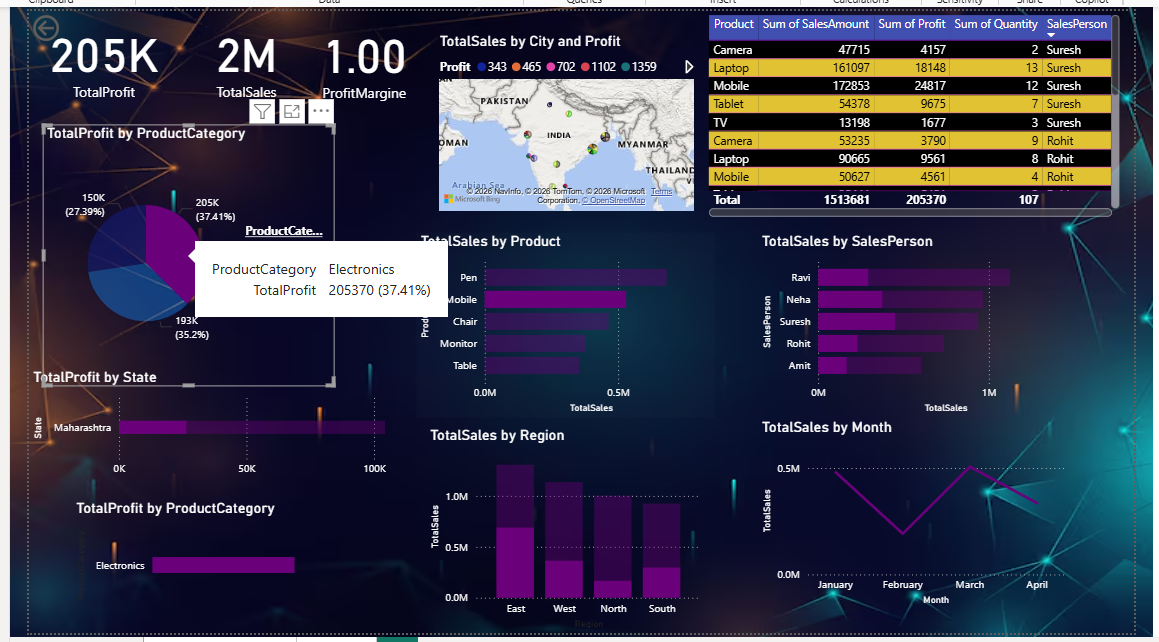

Layout of this report page (visuals, bound fields, positions):
{"tool":"powerbi","page":{"name":"Duplicate of Page 1","canvas":[1280,720],"ordinal":0},"visuals":[{"type":"card","fields":{"Values":["SalesData.TotalProfit"]},"box":[0,0,174.3,110],"z":0},{"type":"card","fields":{"Values":["SalesData.TotalSales"]},"box":[184.3,7.1,134.3,97.1],"z":1000},{"type":"card","fields":{"Values":["SalesData.ProfitMargine"]},"box":[315.7,0,144.3,112.9],"z":2000},{"type":"columnChart","fields":{"Category":["SalesData.Region"],"Y":["SalesData.TotalSales"]},"box":[460,481.4,324.3,238.6],"z":3000},{"type":"barChart","fields":{"Category":["SalesData.Product"],"Y":["SalesData.TotalSales"]},"box":[448.6,257.1,345.7,214.3],"z":4000},{"type":"lineChart","fields":{"Category":["SalesData.OrderDate.Variation.Date Hierarchy.Month"],"Y":["SalesData.TotalSales"]},"box":[844.3,471.4,360,221.4],"z":5000},{"type":"pieChart","fields":{"Y":["SalesData.TotalProfit"],"Category":["SalesData.ProductCategory"]},"box":[15.7,131.4,338.6,302.9],"z":6000},{"type":"tableEx","fields":{"Values":["SalesData.Product","SalesData.SalesAmount","SalesData.Profit","SalesData.Quantity","SalesData.SalesPerson"]},"box":[781.4,0,485.7,242.9],"z":7000},{"type":"actionButton","box":[0,0,100,40],"z":8000},{"type":"map","fields":{"Category":["SalesData.City"],"Series":["SalesData.Profit"],"Size":["SalesData.TotalSales"]},"box":[470,25.7,304.3,211.4],"z":9000},{"type":"barChart","fields":{"Category":["SalesData.ProductCategory"],"Y":["SalesData.TotalProfit"]},"box":[50,567.1,338.6,124.3],"z":10000},{"type":"barChart","fields":{"Category":["SalesData.State"],"Y":["SalesData.TotalProfit"]},"box":[0,414.3,431.4,134.3],"z":11000},{"type":"barChart","fields":{"Category":["SalesData.SalesPerson"],"Y":["SalesData.TotalSales"]},"box":[844.3,257.1,385.7,214.3],"z":12000}]}

Visuals, with their boxes on the page's 1280x720 design canvas (x1, y1, x2, y2). These are canvas units, not pixel positions in the 1159x642 screenshot, which may show the page scaled, cropped or inside an application window:
card - SalesData.TotalProfit: bbox=[0, 0, 174, 110]
card - SalesData.TotalSales: bbox=[184, 7, 319, 104]
card - SalesData.ProfitMargine: bbox=[316, 0, 460, 113]
columnChart - SalesData.Region x SalesData.TotalSales: bbox=[460, 481, 784, 720]
barChart - SalesData.Product x SalesData.TotalSales: bbox=[449, 257, 794, 471]
lineChart - SalesData.OrderDate.Variation.Date Hierarchy.Month x SalesData.TotalSales: bbox=[844, 471, 1204, 693]
pieChart - SalesData.TotalProfit x SalesData.ProductCategory: bbox=[16, 131, 354, 434]
tableEx - SalesData.Product x SalesData.SalesAmount: bbox=[781, 0, 1267, 243]
actionButton: bbox=[0, 0, 100, 40]
map - SalesData.City x SalesData.Profit: bbox=[470, 26, 774, 237]
barChart - SalesData.ProductCategory x SalesData.TotalProfit: bbox=[50, 567, 389, 691]
barChart - SalesData.State x SalesData.TotalProfit: bbox=[0, 414, 431, 549]
barChart - SalesData.SalesPerson x SalesData.TotalSales: bbox=[844, 257, 1230, 471]
